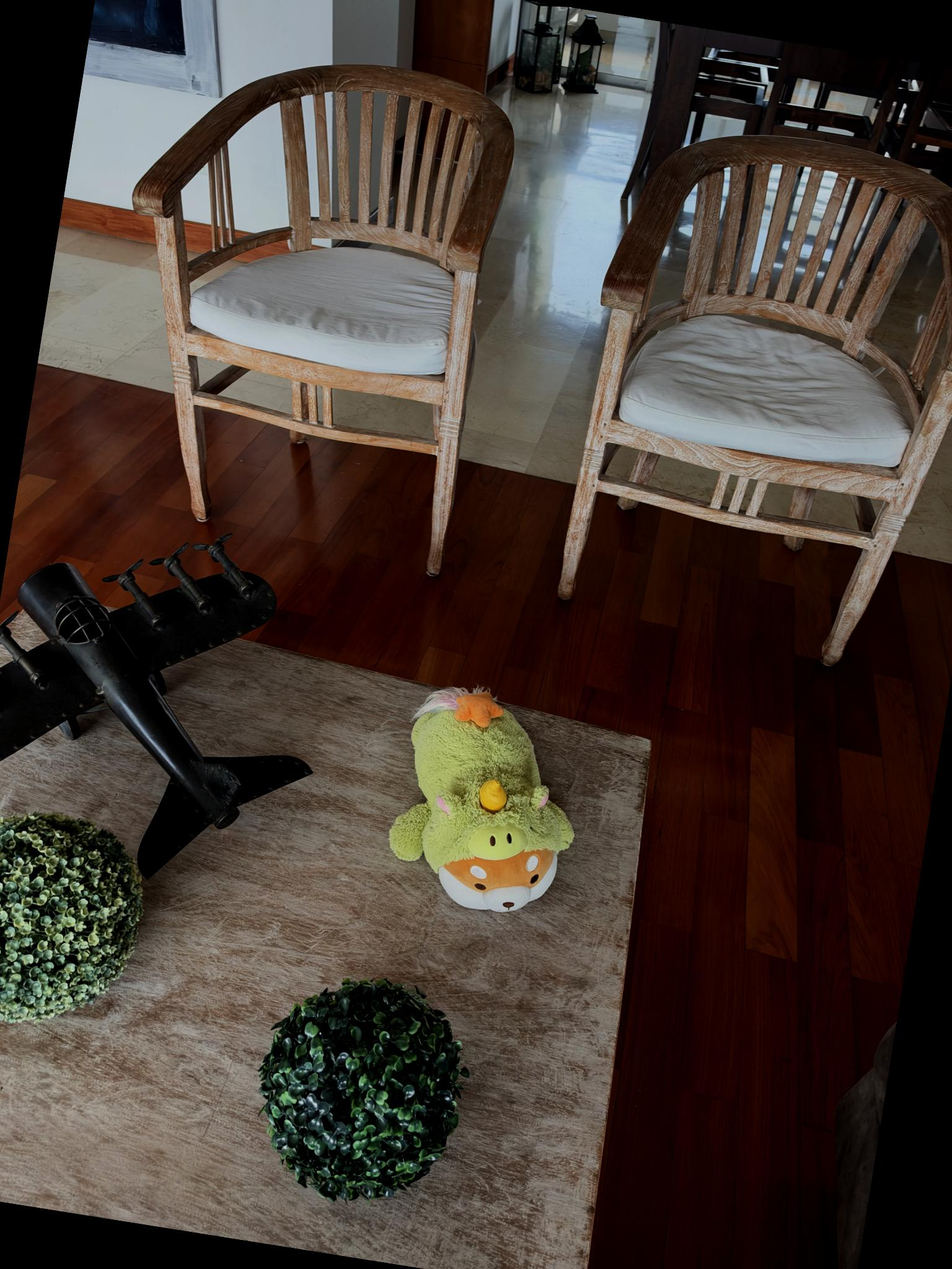peluche_martin: (377, 674, 597, 924)
